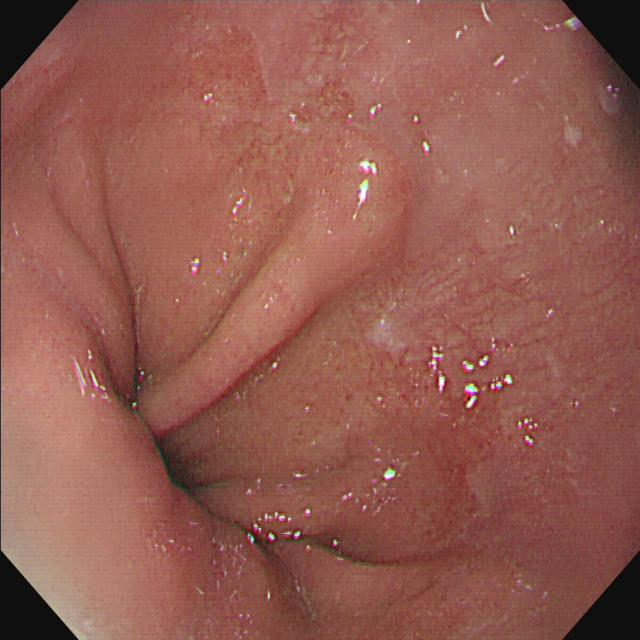I: (63, 56, 495, 628)
U: (464, 374, 514, 410), (355, 161, 379, 220), (463, 338, 499, 375), (428, 346, 447, 396)
